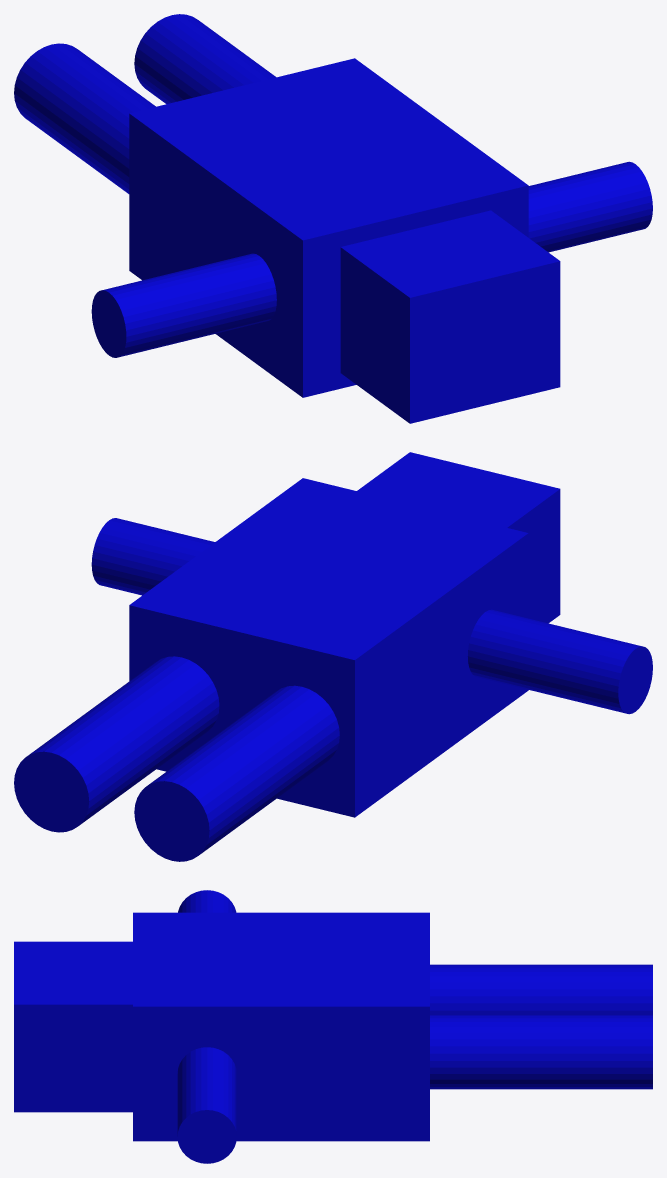
The picture shows the model from 3 angles, top to bottom: view 1: azimuth 30°, elevation 25°; view 2: azimuth 150°, elevation 25°; view 3: azimuth 270°, elevation 25°; orthographic projection. The views are drawn at different scales.
Visible parts, largest first — view 1: world; view 2: world; view 3: world.
Part boxes in pixels (box(x1,y1,x2,y2)): world: box(14, 14, 652, 423); world: box(14, 452, 652, 861); world: box(14, 890, 652, 1163).
Size of the model in its own units: 3.5 by 1 by 4.3.
